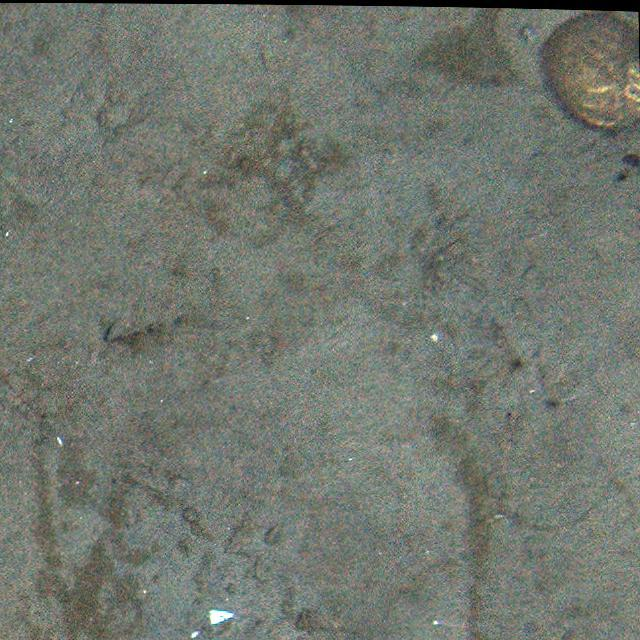whelk: (541, 15, 640, 137)
